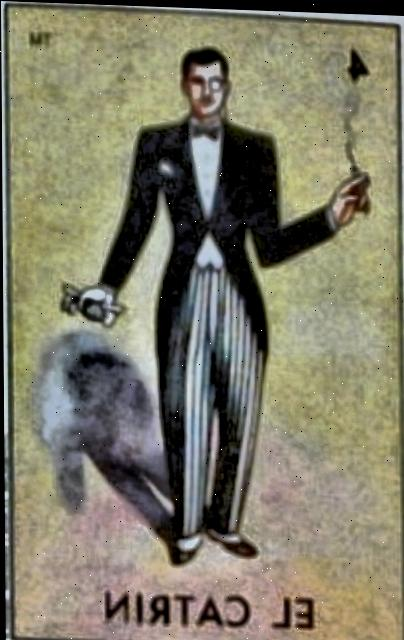El Catrin: (5, 6, 401, 640)
